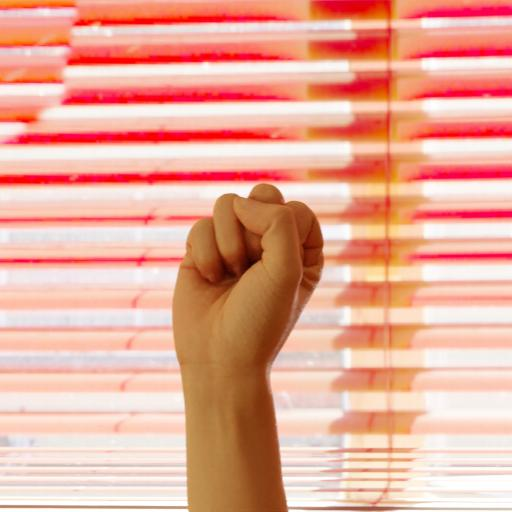S: (138, 164, 423, 472)
